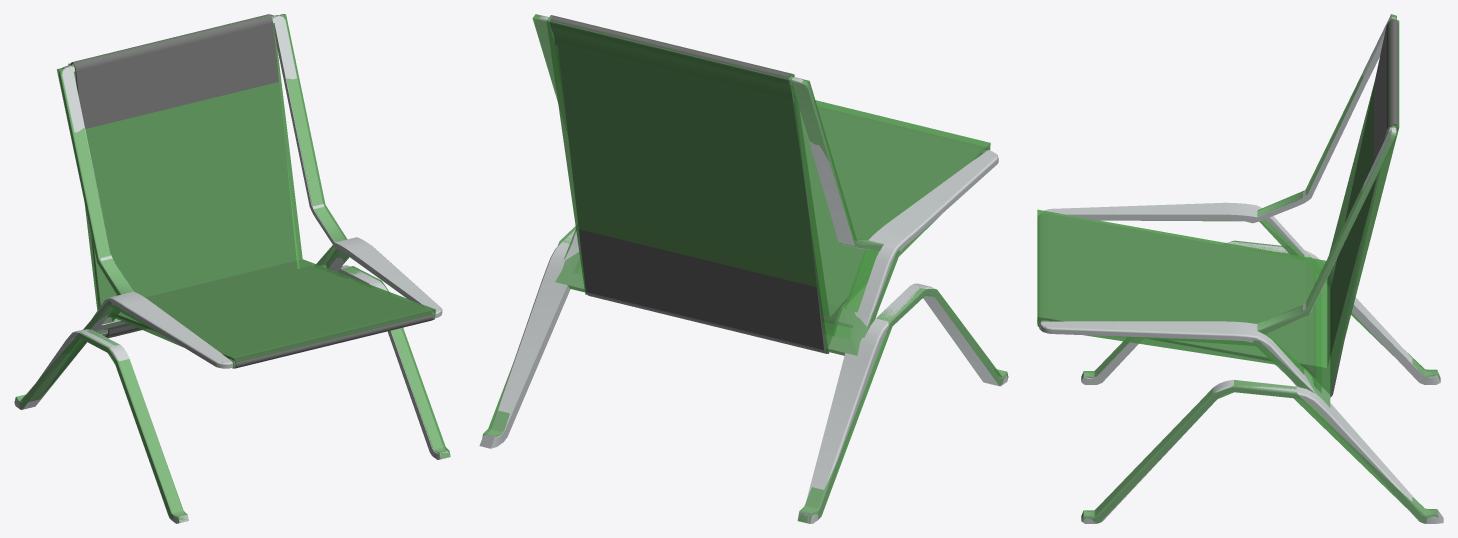
File: LoungeChair_01_Mesh.fbx
3 views of the same model, side by side, from view 1: azimuth 30°, elevation 25°; view 2: azimuth 150°, elevation 25°; view 3: azimuth 270°, elevation 25° (orthographic). The views are drawn at different scales.
Parts seen in each view (by area): view 1: LoungeChair_01_LOD0, LoungeChair_01_Col; view 2: LoungeChair_01_LOD0, LoungeChair_01_Col; view 3: LoungeChair_01_LOD0, LoungeChair_01_Col.
Boxes of the visible parts, x1,y1,x2,y2 form: LoungeChair_01_LOD0: [15, 14, 449, 523]; LoungeChair_01_Col: [14, 14, 450, 522]; LoungeChair_01_LOD0: [479, 15, 1007, 523]; LoungeChair_01_Col: [482, 14, 1008, 523]; LoungeChair_01_LOD0: [1037, 17, 1443, 523]; LoungeChair_01_Col: [1037, 14, 1440, 522].
Size of what is drawn, in the model's own units: 0.769 by 0.9334 by 0.9058.
